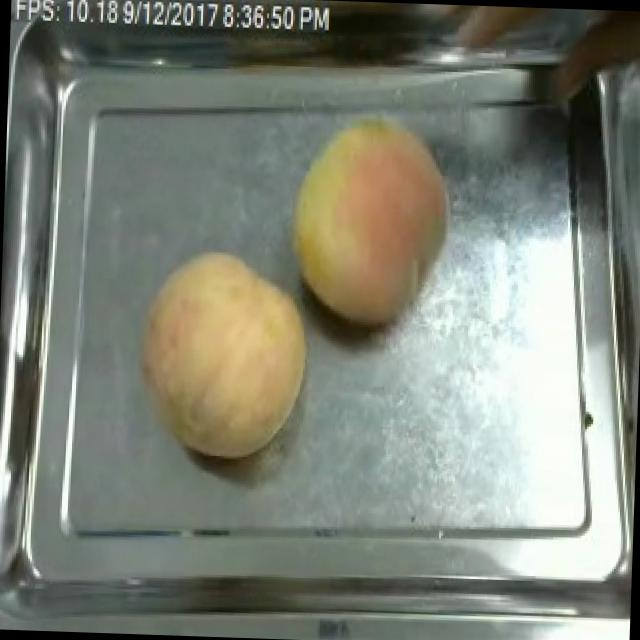Fruit: (127, 239, 321, 466), (277, 103, 463, 337)
